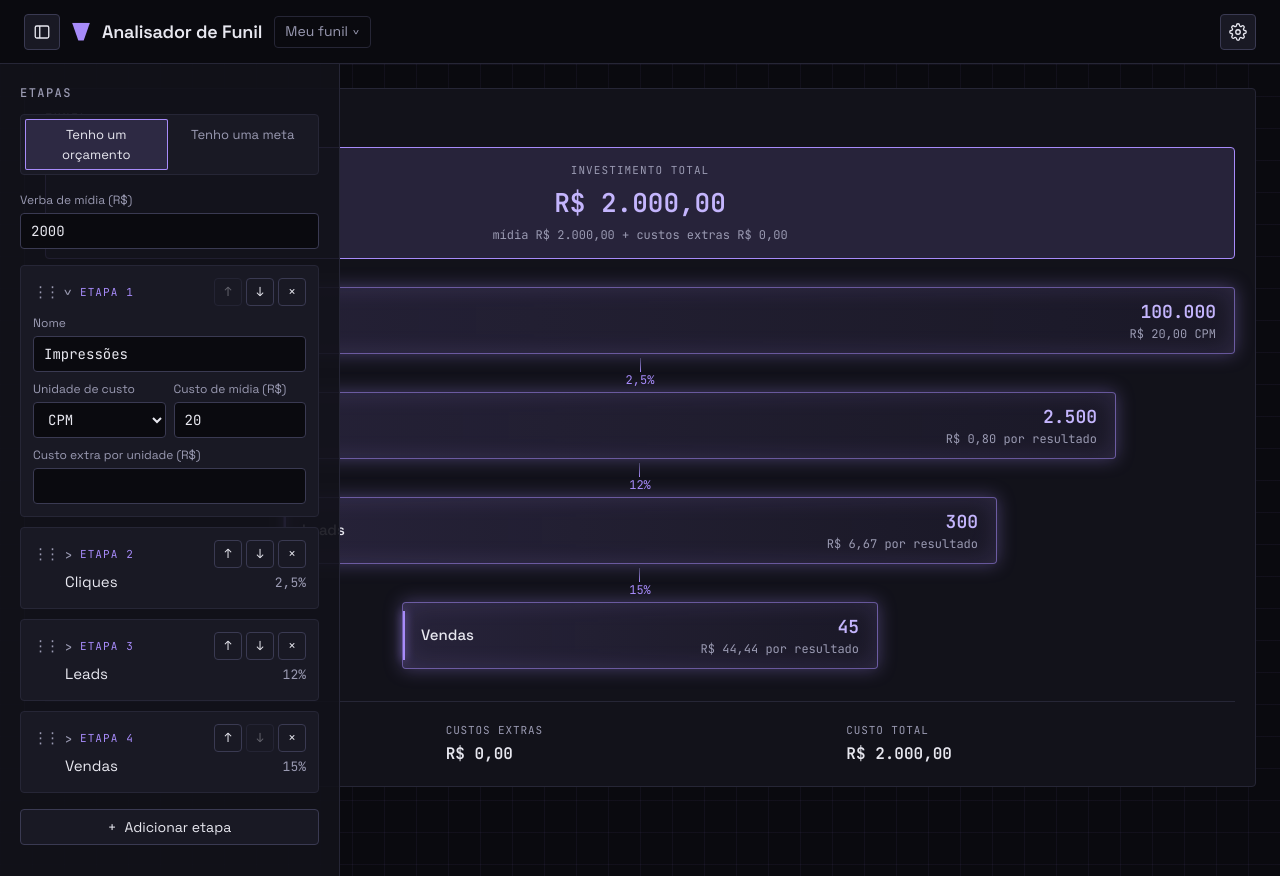
receita, ROAS e ROI só aparecem com ticket médio
Check: the text "Receita" is not shown
Check: the text "ROAS" is not shown
Step 1. Click the button "› Etapa 4 Vendas 15%" → (186, 752), box [65,724,306,780]
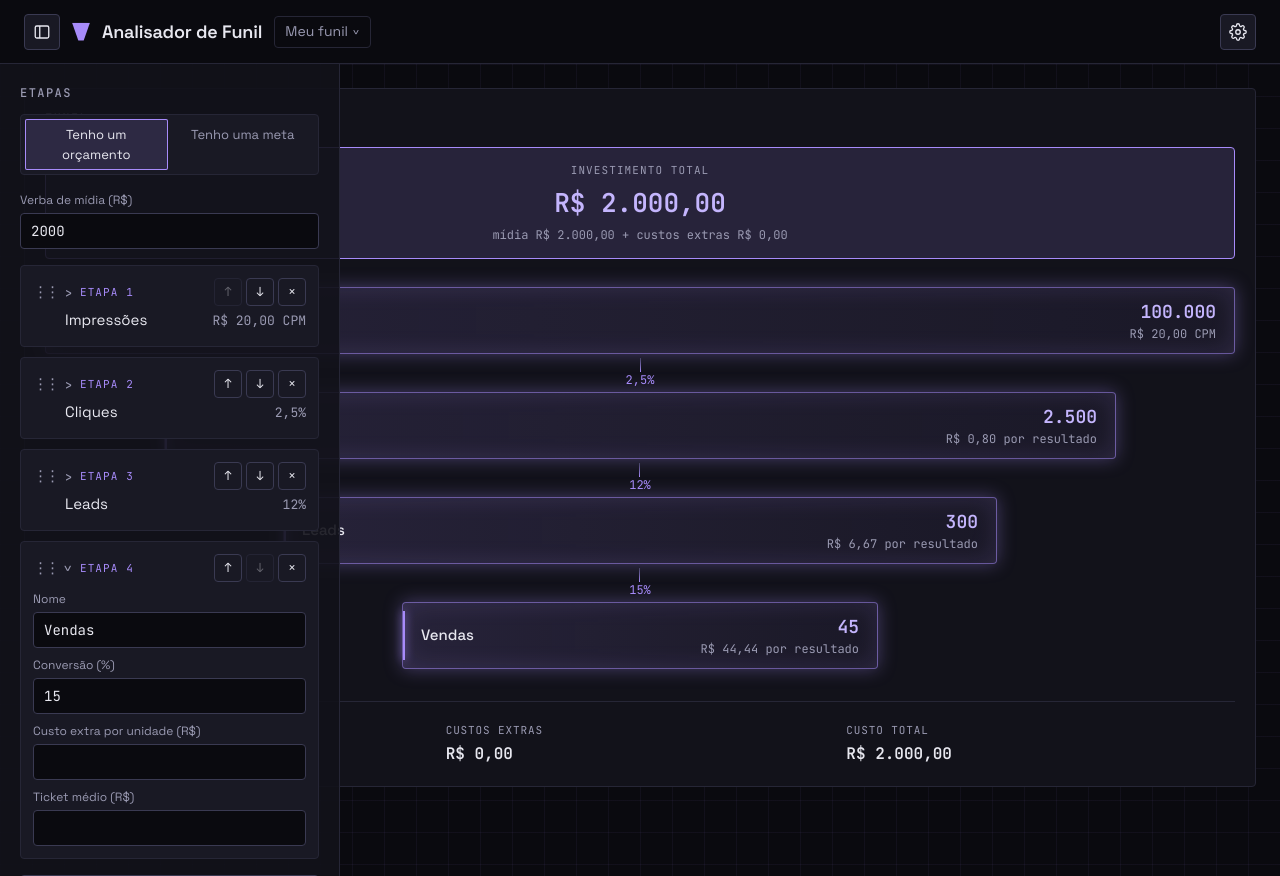
Step 2. Type "200" into the field labelled "Ticket médio (R$)" → (170, 828), box [33,810,306,846]
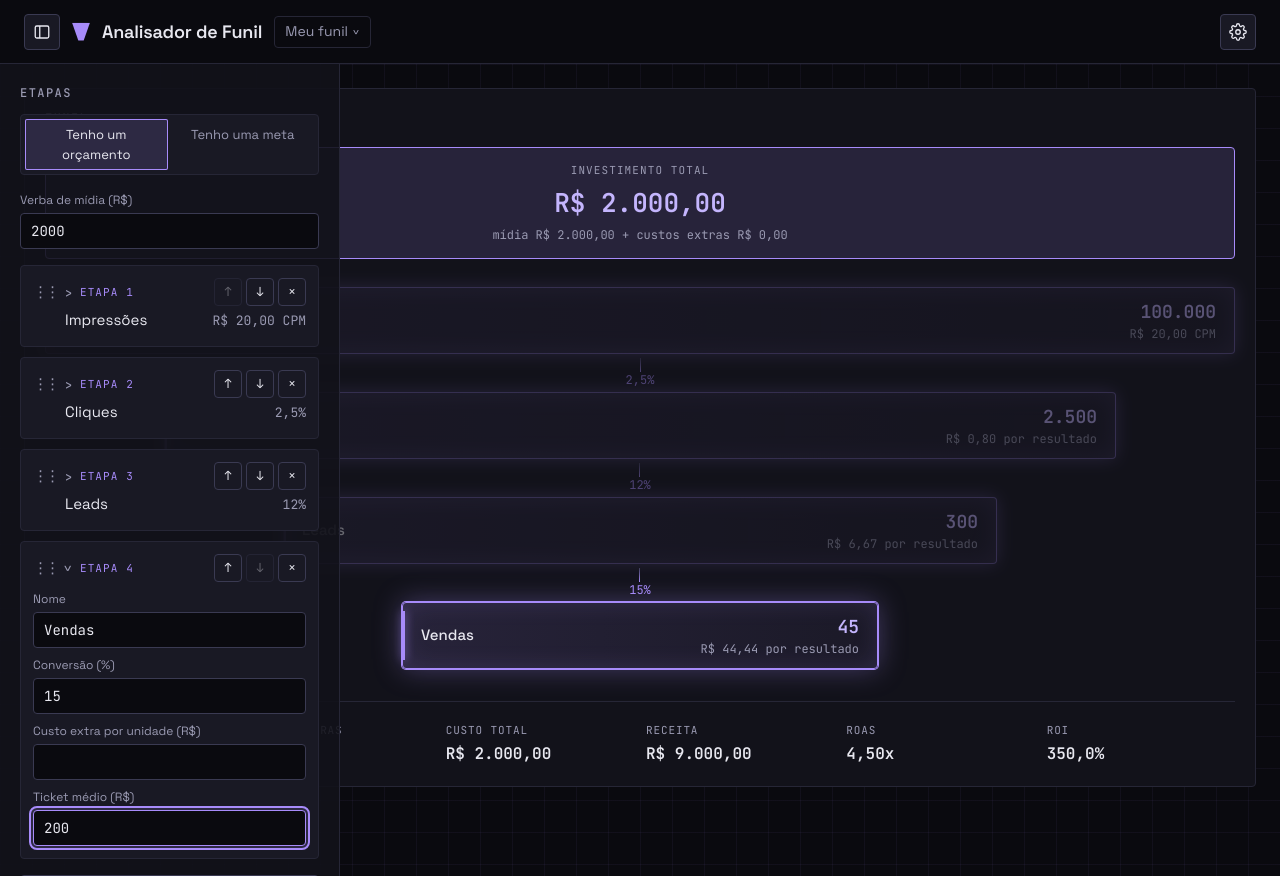
Check: the text "R$ 9.000,00" is shown, box [646,743,752,764]
Check: the text "4,50x" is shown, box [846,743,894,764]
Step 3. Clear the field labelled "Ticket médio (R$)" → (170, 828), box [33,810,306,846]
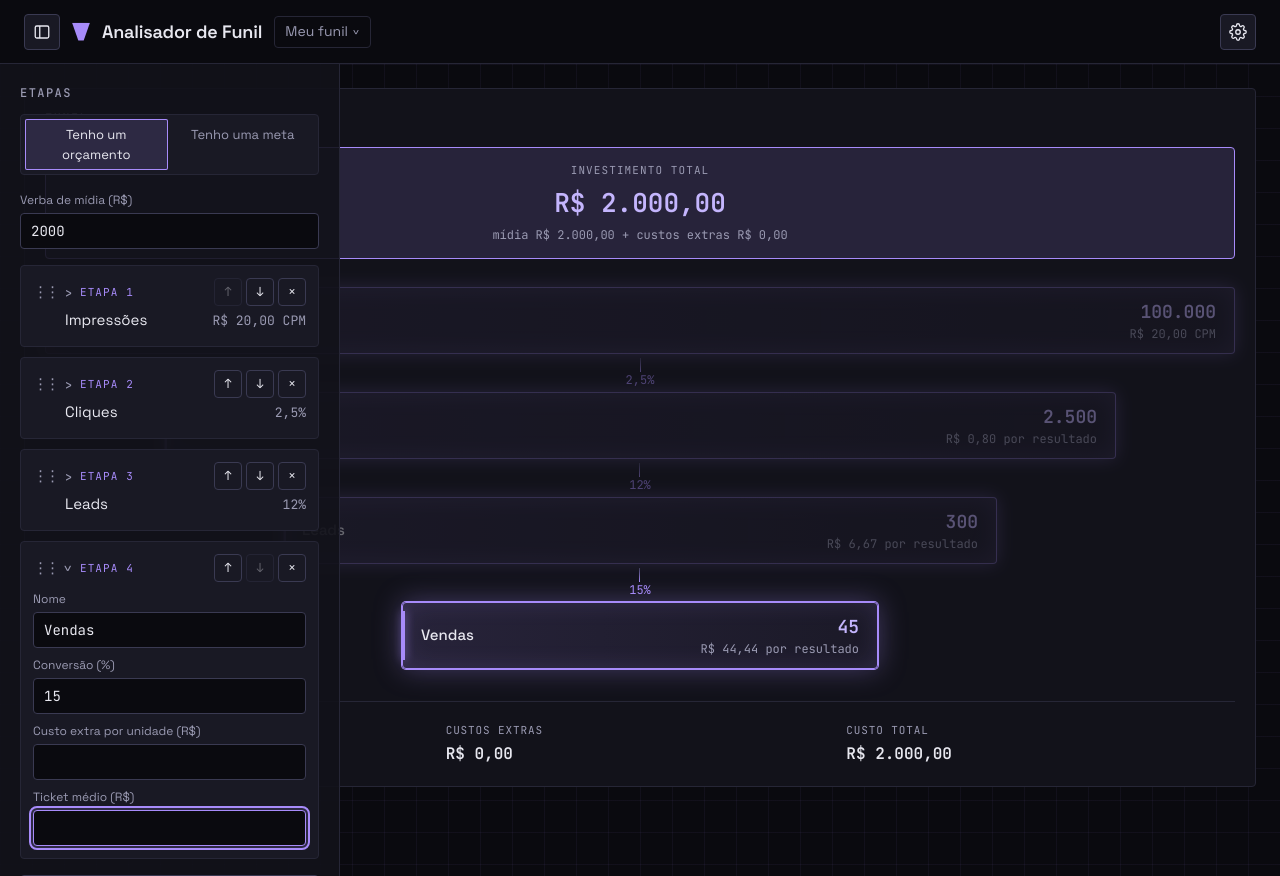
Check: the text "Receita" is gone
